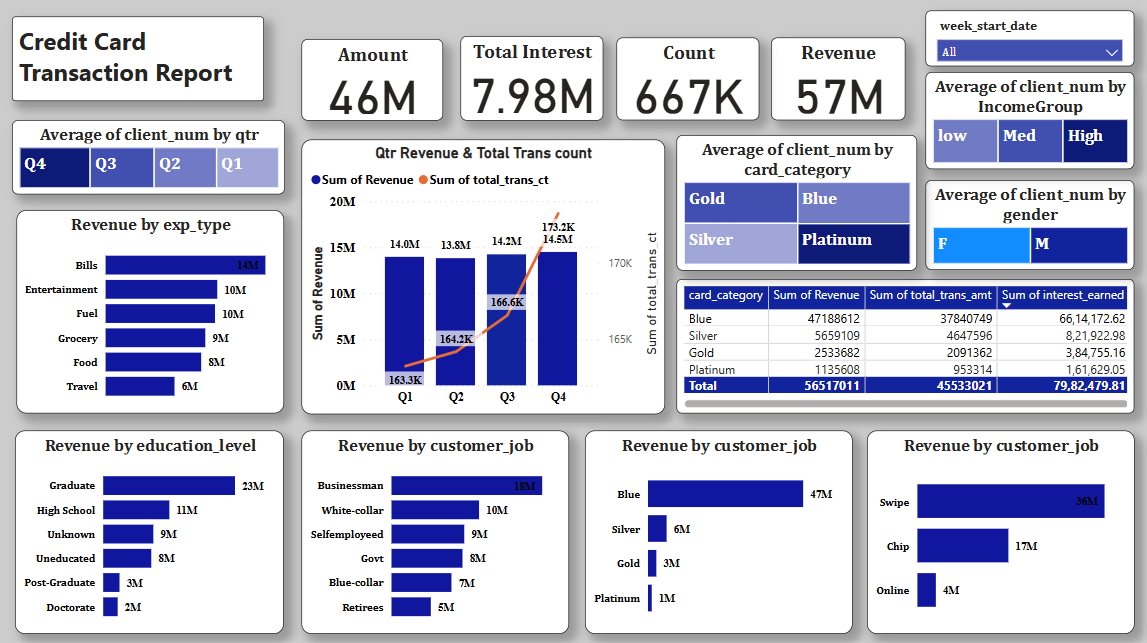

The page's visual inventory and layout, read from the dashboard file:
{"tool":"powerbi","page":{"name":"cc_transaction","canvas":[1280,720],"ordinal":1},"visuals":[{"type":"textbox","box":[12.7,19.1,279.7,93.8],"z":0},{"type":"lineStackedColumnComboChart","title":"Qtr Revenue & Total Trans count","fields":{"Category":["public cc_detail.qtr"],"Y":["Sum(public cc_detail.Revenue)"],"Y2":["Sum(public cc_detail.total_trans_ct)"]},"box":[335.4,154.2,403.7,305.2],"z":1000},{"type":"barChart","title":"Revenue by exp_type","fields":{"Category":["public cc_detail.exp_type"],"Y":["Sum(public cc_detail.Revenue)"]},"box":[19.1,233.6,297.2,225.7],"z":2000},{"type":"barChart","title":"Revenue by education_level","fields":{"Category":["public cust_detail.education_level"],"Y":["Sum(public cc_detail.Revenue)"]},"box":[17.5,478.4,298.8,225.7],"z":3000},{"type":"barChart","title":"Revenue by customer_job","fields":{"Category":["public cust_detail.customer_job"],"Y":["Sum(public cc_detail.Revenue)"]},"box":[335.4,478.4,297.2,225.7],"z":4000},{"type":"barChart","title":"Revenue by customer_job","fields":{"Category":["public cc_detail.card_category"],"Y":["Sum(public cc_detail.Revenue)"]},"box":[650.1,478.4,297.2,225.7],"z":5000},{"type":"barChart","title":"Revenue by customer_job","fields":{"Category":["public cc_detail.use_chip"],"Y":["Sum(public cc_detail.Revenue)"]},"box":[963.2,478.4,297.2,225.7],"z":6000},{"type":"tableEx","fields":{"Values":["public cc_detail.card_category","Sum(public cc_detail.Revenue)","Sum(public cc_detail.total_trans_amt)","Sum(public cc_detail.interest_earned)"]},"box":[751.8,309.9,508.6,149.4],"z":7000},{"type":"card","title":"Revenue","fields":{"Values":["Sum(public cc_detail.Revenue)"]},"box":[856.7,41.3,149.4,92.2],"z":8000},{"type":"card","title":"Amount","fields":{"Values":["Sum(public cc_detail.total_trans_amt)"]},"box":[335.4,42.9,157.4,90.6],"z":9000},{"type":"card","title":"Total Interest","fields":{"Values":["Sum(public cc_detail.interest_earned)"]},"box":[511.8,39.7,158.9,93.8],"z":10000},{"type":"card","title":"Count","fields":{"Values":["Sum(public cc_detail.total_trans_ct)"]},"box":[685,41.3,158.9,92.2],"z":11000},{"type":"slicer","fields":{"Values":["public cc_detail.week_start_date"]},"box":[1028.3,11.1,232.1,62],"z":12000},{"type":"treemap","fields":{"Group":["public cc_detail.qtr"],"Values":["Avg(public cc_detail.client_num)"]},"box":[12.7,133.5,303.6,82.6],"z":13000},{"type":"treemap","fields":{"Group":["public cust_detail.gender"],"Values":["Avg(public cc_detail.client_num)"]},"box":[1028.3,200.3,232.1,100.1],"z":14000},{"type":"treemap","fields":{"Group":["public cc_detail.card_category"],"Values":["Avg(public cc_detail.client_num)"]},"box":[751.8,149.4,267,151],"z":15000},{"type":"treemap","fields":{"Values":["Avg(public cc_detail.client_num)"],"Group":["public cust_detail.IncomeGroup"]},"box":[1028.3,79.5,232.1,108.1],"z":16000}]}

Visuals, with their boxes in screenshot pixels (x1, y1, x2, y2), scaled from the page's 1280x720 canvas onto the 1147x643 screenshot:
textbox: 11:17:262:101
"Qtr Revenue & Total Trans count" lineStackedColumnComboChart: 301:138:662:410
"Revenue by exp_type" barChart: 17:209:283:410
"Revenue by education_level" barChart: 16:427:283:629
"Revenue by customer_job" barChart: 301:427:567:629
"Revenue by customer_job" barChart: 583:427:849:629
"Revenue by customer_job" barChart: 863:427:1129:629
tableEx - public cc_detail.card_category x Sum(public cc_detail.Revenue): 674:277:1129:410
"Revenue" card: 768:37:902:119
"Amount" card: 301:38:442:119
"Total Interest" card: 459:35:601:119
"Count" card: 614:37:756:119
slicer - public cc_detail.week_start_date: 921:10:1129:65
treemap - public cc_detail.qtr x Avg(public cc_detail.client_num): 11:119:283:193
treemap - public cust_detail.gender x Avg(public cc_detail.client_num): 921:179:1129:268
treemap - public cc_detail.card_category x Avg(public cc_detail.client_num): 674:133:913:268
treemap - Avg(public cc_detail.client_num) x public cust_detail.IncomeGroup: 921:71:1129:168
